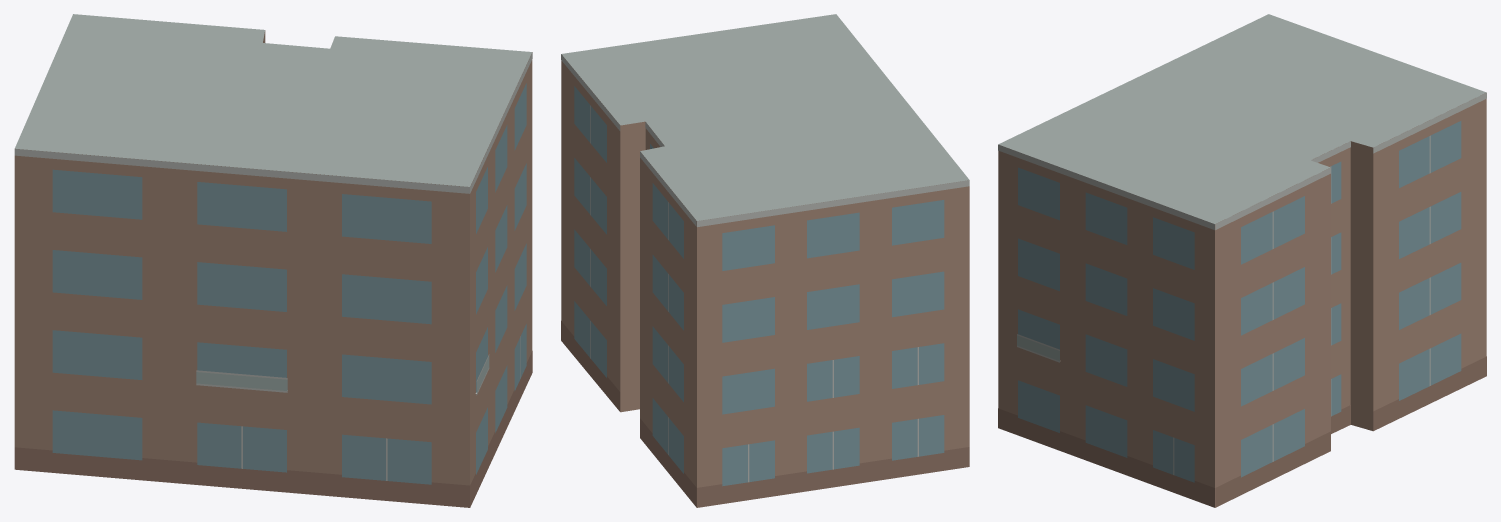
File: survey-upis-32821025.glb
The picture shows the model from 3 angles, left to right: view 1: azimuth 30°, elevation 25°; view 2: azimuth 150°, elevation 25°; view 3: azimuth 270°, elevation 25°; orthographic projection. The views are drawn at different scales.
Visible parts, largest first — view 1: survey-upis-32821025.tmp; view 2: survey-upis-32821025.tmp; view 3: survey-upis-32821025.tmp.
Boxes of the visible parts, box(x1,y1,x2,y2) form: survey-upis-32821025.tmp: box(14, 14, 532, 507); survey-upis-32821025.tmp: box(561, 14, 969, 507); survey-upis-32821025.tmp: box(998, 14, 1486, 507).
Size of the model in its own units: 18.03 by 11.34 by 17.71.
